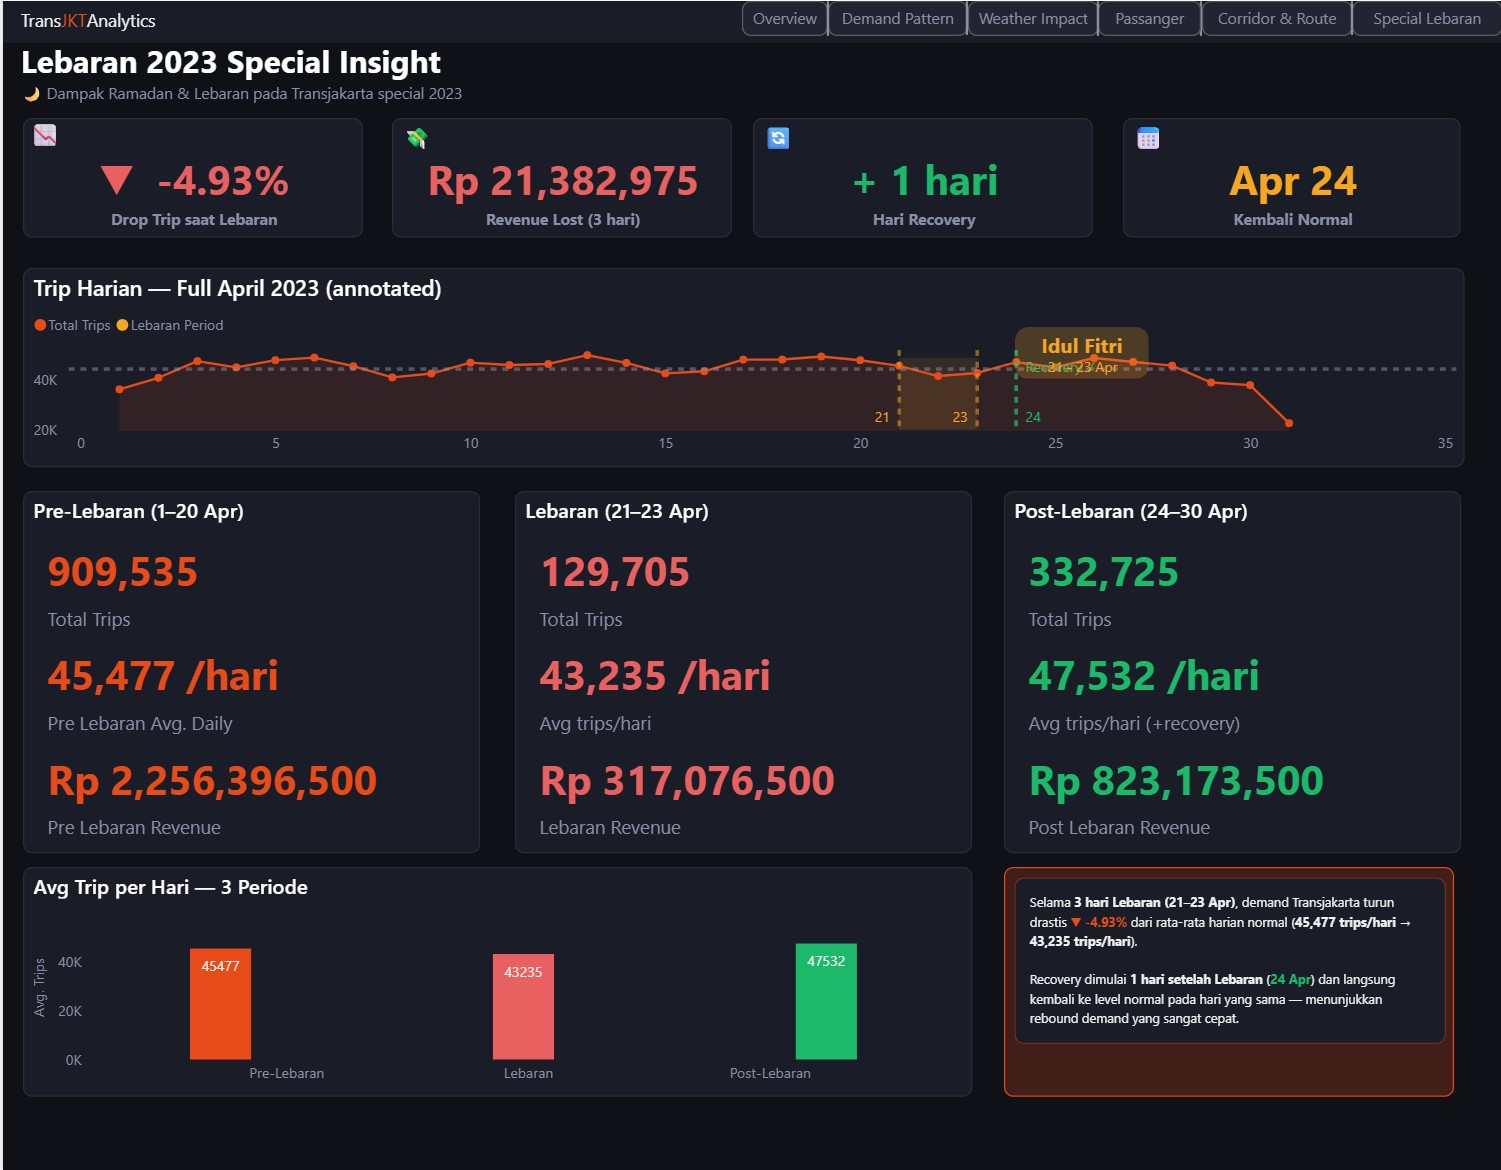

This screenshot's page, from the dashboard's own definition file:
{"tool":"powerbi","page":{"name":"LEBARAN","canvas":[1280,1000],"ordinal":5},"visuals":[{"type":"shape","box":[0,0,1280.3,35.6],"z":0},{"type":"actionButton","box":[630.9,0,73.3,29.8],"z":0,"group":"g1"},{"type":"shape","box":[1002.5,0,40.9,29.8],"z":0,"group":"g3"},{"type":"htmlContent443BE3AD55E043BF878BED274D3A6855","fields":{"content":["FACT_TRANSJAKARTA.Navbar Brand"]},"box":[9.8,0,135.8,35.6],"z":1000},{"type":"group","id":"g1","title":"Group 2","box":[630.9,0,649.1,29.8],"z":1000,"group":"g3"},{"type":"actionButton","box":[704.2,0,119.3,29.8],"z":1000,"group":"g1"},{"type":"actionButton","box":[823.5,0,111.5,29.8],"z":2000,"group":"g1"},{"type":"card","title":"📉","fields":{"Values":["FACT_TRANSJAKARTA.Lebaran Drop %"]},"box":[17.1,99.8,290.1,101.5],"z":2000},{"type":"actionButton","box":[935,0,88.2,29.8],"z":3000,"group":"g1"},{"type":"card","title":"💸","fields":{"Values":["FACT_TRANSJAKARTA.Revenue Lost Lebaran"]},"box":[331.9,99.8,290.1,101.5],"z":3000},{"type":"actionButton","box":[1023.2,0,128.4,29.8],"z":4000,"group":"g1"},{"type":"card","title":"🔄","fields":{"Values":["FACT_TRANSJAKARTA.Days to Recovery"]},"box":[639.9,99.8,290.1,101.5],"z":4000},{"type":"actionButton","box":[1151.6,0,128.4,29.8],"z":5000,"group":"g1"},{"type":"card","title":"📅","fields":{"Values":["FACT_TRANSJAKARTA.Recovery Date"]},"box":[955.6,99.8,288.4,101.5],"z":5000},{"type":"shape","box":[684.1,0,40.9,29.8],"z":6000,"group":"g1"},{"type":"textbox","box":[10,27.1,643.6,50],"z":6000},{"type":"shape","box":[802.7,0,40.9,29.2],"z":7000,"group":"g1"},{"type":"textbox","box":[10.2,64.8,378.8,29],"z":7000},{"type":"shape","box":[914.3,0,40.9,29.8],"z":8000,"group":"g1"},{"type":"areaChart","title":"Trip Harian — Full April 2023 (annotated)","fields":{"Category":["DIM_CALENDAR.DayID"],"Y":["FACT_TRANSJAKARTA.Total Trips"],"Y2":["FACT_TRANSJAKARTA.Lebaran Highlight"]},"box":[17.1,227.8,1230.4,169.8],"z":8000},{"type":"shape","box":[1130.8,0,40.9,29.2],"z":9000,"group":"g1"},{"type":"group","id":"g2","title":"Group 1","box":[863.5,278.2,114.3,50.3],"z":9000},{"type":"cardVisual","title":"Pre-Lebaran (1–20 Apr)","fields":{"Data":["FACT_TRANSJAKARTA.Pre Lebaran Total Trips","FACT_TRANSJAKARTA.Pre Lebaran Avg Daily","FACT_TRANSJAKARTA.Pre Lebaran Revenue"]},"box":[17.1,418.1,389.9,308.9],"z":10000},{"type":"cardVisual","title":"Lebaran (21–23 Apr)","fields":{"Data":["FACT_TRANSJAKARTA.Lebaran Total Trips","FACT_TRANSJAKARTA.Lebaran Avg Daily","FACT_TRANSJAKARTA.Lebaran Revenue"]},"box":[436.9,418.1,389.9,308.9],"z":11000},{"type":"cardVisual","title":"Post-Lebaran (24–30 Apr)","fields":{"Data":["FACT_TRANSJAKARTA.Post Lebaran Total Trips","FACT_TRANSJAKARTA.Post Lebaran Avg Daily","FACT_TRANSJAKARTA.Post Lebaran Revenue"]},"box":[854.1,418.1,389.9,308.9],"z":12000},{"type":"clusteredColumnChart","title":"Avg Trip per Hari — 3 Periode","fields":{"Y":["FACT_TRANSJAKARTA.Avg Pre Lebaran 2023 Trips","FACT_TRANSJAKARTA.Avg Lebaran 2023 Trips","FACT_TRANSJAKARTA.Avg Post Lebaran 2023 Trips"],"Category":["FACT_TRANSJAKARTA.Period Label"]},"box":[17.1,738.9,809.7,196.2],"z":13000},{"type":"htmlContent443BE3AD55E043BF878BED274D3A6855","fields":{"content":["FACT_TRANSJAKARTA.Insight Lebaran HTML"]},"box":[854.1,738.9,384,196.2],"z":14000},{"type":"group","id":"g3","title":"Group 3","box":[630.9,0,649.1,29.8],"z":15000},{"type":"shape","title":"Idul Fitri","box":[863.5,278.2,114.3,44.4],"z":16002,"group":"g2"},{"type":"textbox","box":[886.5,297.8,81.1,30.7],"z":17002,"group":"g2"}]}

Visuals, with their boxes in screenshot pixels (x1, y1, x2, y2), scaled from the page's 1280x1000 canvas onto the 1501x1170 screenshot:
shape: {"left": 0, "top": 0, "right": 1500, "bottom": 42}
actionButton: {"left": 740, "top": 0, "right": 826, "bottom": 35}
shape: {"left": 1176, "top": 0, "right": 1224, "bottom": 35}
htmlContent443BE3AD55E043BF878BED274D3A6855 - FACT_TRANSJAKARTA.Navbar Brand: {"left": 11, "top": 0, "right": 171, "bottom": 42}
"Group 2" group: {"left": 740, "top": 0, "right": 1500, "bottom": 35}
actionButton: {"left": 826, "top": 0, "right": 966, "bottom": 35}
actionButton: {"left": 966, "top": 0, "right": 1096, "bottom": 35}
"📉" card: {"left": 20, "top": 117, "right": 360, "bottom": 236}
actionButton: {"left": 1096, "top": 0, "right": 1200, "bottom": 35}
"💸" card: {"left": 389, "top": 117, "right": 729, "bottom": 236}
actionButton: {"left": 1200, "top": 0, "right": 1350, "bottom": 35}
"🔄" card: {"left": 750, "top": 117, "right": 1091, "bottom": 236}
actionButton: {"left": 1350, "top": 0, "right": 1500, "bottom": 35}
"📅" card: {"left": 1121, "top": 117, "right": 1459, "bottom": 236}
shape: {"left": 802, "top": 0, "right": 850, "bottom": 35}
textbox: {"left": 12, "top": 32, "right": 766, "bottom": 90}
shape: {"left": 941, "top": 0, "right": 989, "bottom": 34}
textbox: {"left": 12, "top": 76, "right": 456, "bottom": 110}
shape: {"left": 1072, "top": 0, "right": 1120, "bottom": 35}
"Trip Harian — Full April 2023 (annotated)" areaChart: {"left": 20, "top": 267, "right": 1463, "bottom": 465}
shape: {"left": 1326, "top": 0, "right": 1374, "bottom": 34}
"Group 1" group: {"left": 1013, "top": 325, "right": 1147, "bottom": 384}
"Pre-Lebaran (1–20 Apr)" cardVisual: {"left": 20, "top": 489, "right": 477, "bottom": 851}
"Lebaran (21–23 Apr)" cardVisual: {"left": 512, "top": 489, "right": 970, "bottom": 851}
"Post-Lebaran (24–30 Apr)" cardVisual: {"left": 1002, "top": 489, "right": 1459, "bottom": 851}
"Avg Trip per Hari — 3 Periode" clusteredColumnChart: {"left": 20, "top": 865, "right": 970, "bottom": 1094}
htmlContent443BE3AD55E043BF878BED274D3A6855 - FACT_TRANSJAKARTA.Insight Lebaran HTML: {"left": 1002, "top": 865, "right": 1452, "bottom": 1094}
"Group 3" group: {"left": 740, "top": 0, "right": 1500, "bottom": 35}
"Idul Fitri" shape: {"left": 1013, "top": 325, "right": 1147, "bottom": 377}
textbox: {"left": 1040, "top": 348, "right": 1135, "bottom": 384}
